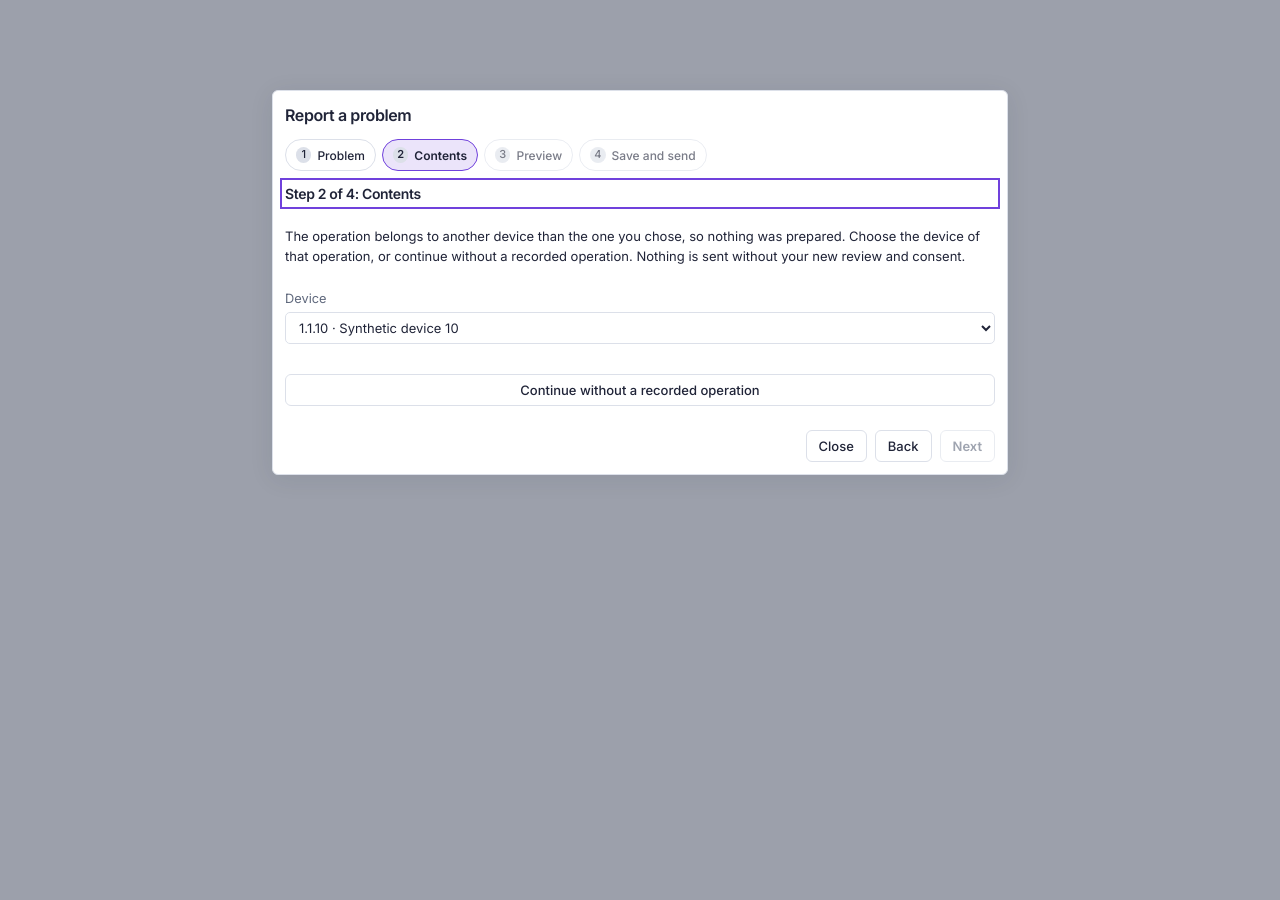
Scenario: a refused device target › on the first preview can also be corrected by choosing the device the run read
The width and height of the screenshot is (1280, 900).
Expected: the button "Continue without a recorded operation" is shown, left=285, top=374, right=995, bottom=406
Expected: the message is shown, left=285, top=227, right=995, bottom=266
Select "1.1.9 · Synthetic device 9" in the dropdown labelled "Device": (640, 328) left=285, top=312, right=995, bottom=344
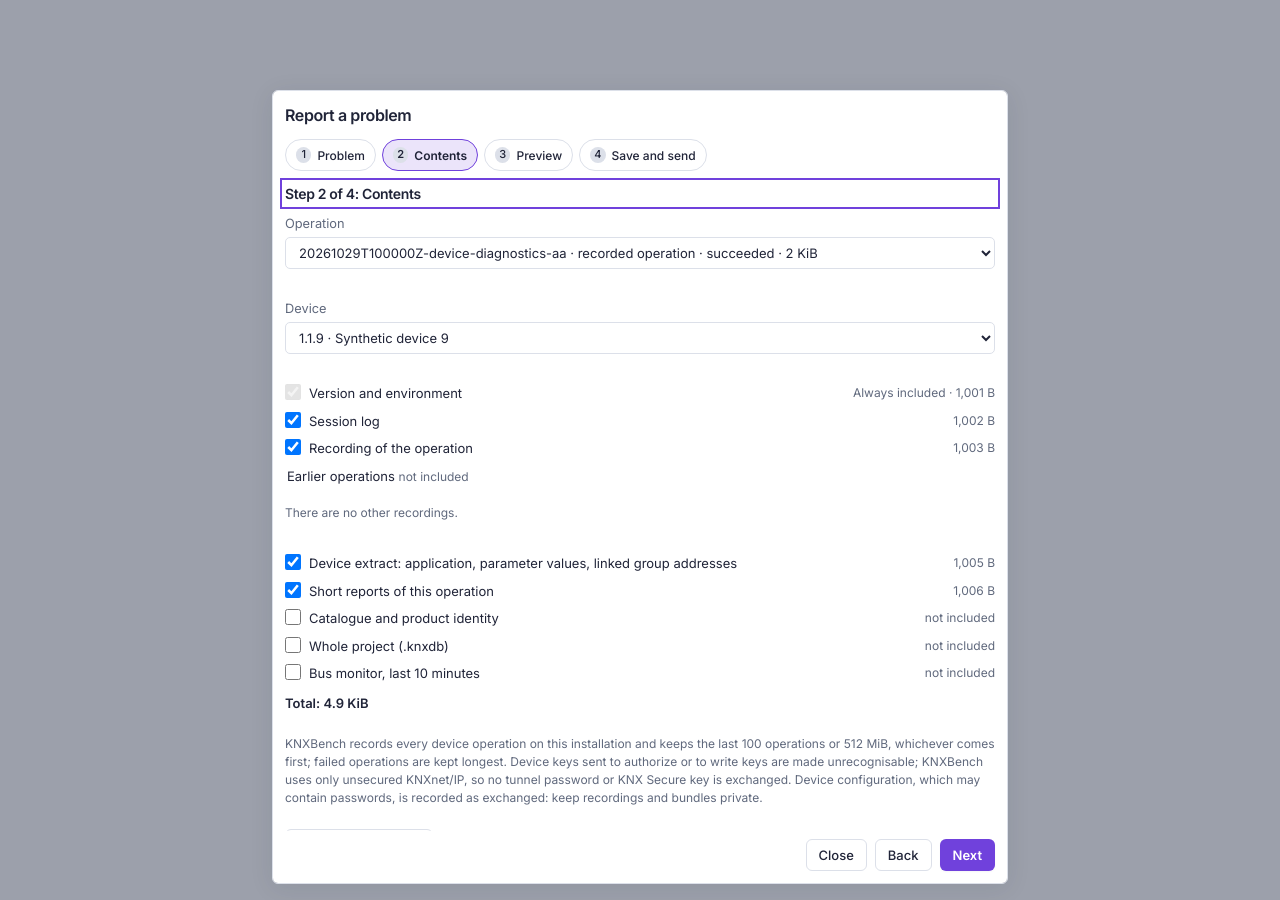
Expected: the dropdown labelled "Operation" shows "20261029T100000Z-device-diagnostics-aa · recorded operation · succeeded · 2 KiB", left=285, top=237, right=995, bottom=269
Expected: the button "4 Save and send" is enabled, left=579, top=139, right=707, bottom=171
